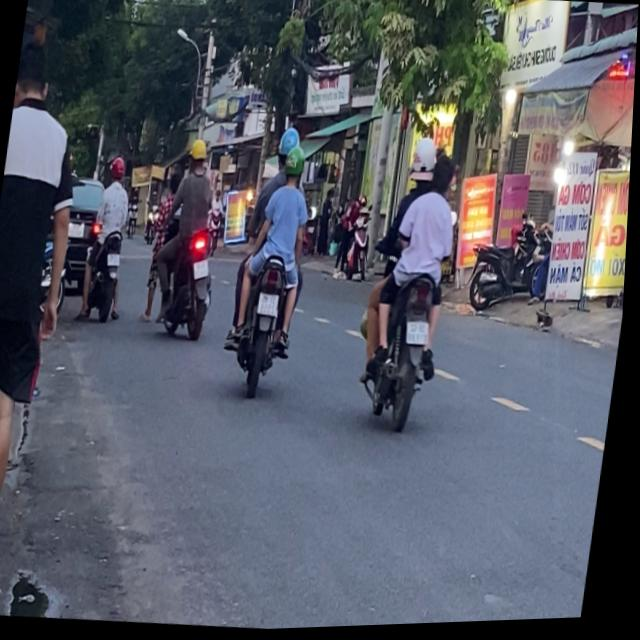helmet: (408, 136, 442, 191), (284, 145, 308, 186), (277, 127, 303, 164), (189, 136, 211, 170), (110, 154, 129, 183)
licenseplate: (351, 132, 473, 436), (220, 125, 327, 399), (143, 133, 233, 343), (79, 152, 141, 324)
motorcyclist: (432, 152, 461, 201)
nohelmet: (408, 321, 433, 346), (259, 292, 282, 317), (193, 258, 213, 280), (109, 253, 122, 266)
